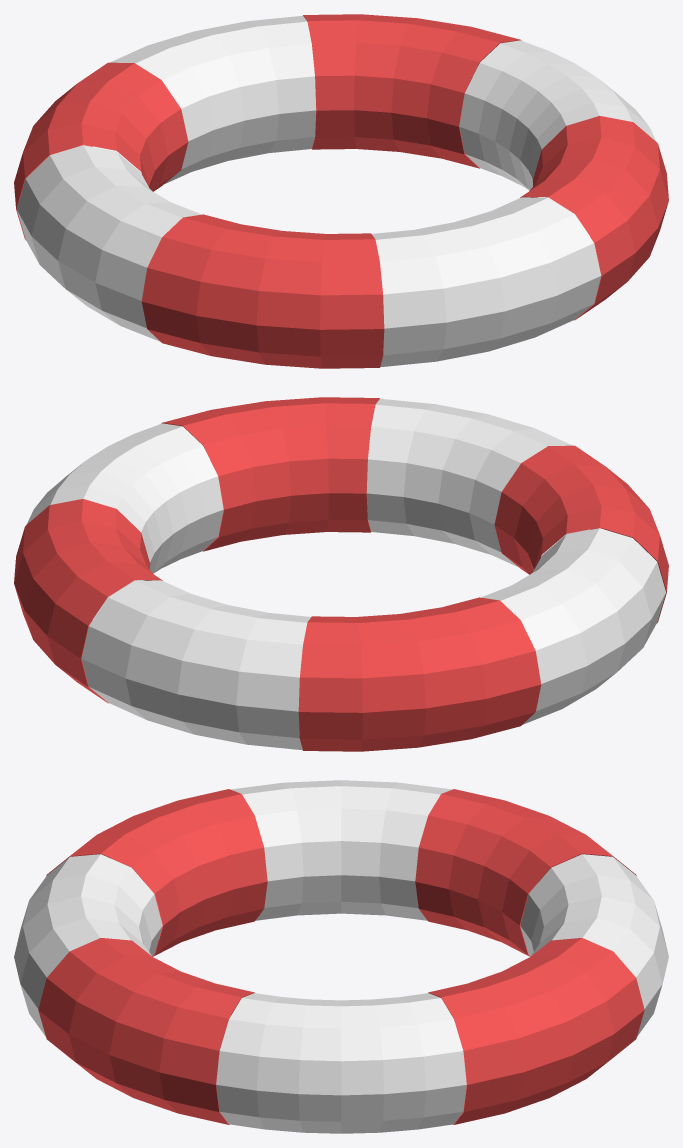
File: Life Preserver.fbx
3 views of the same model, one above another, from view 1: azimuth 30°, elevation 25°; view 2: azimuth 150°, elevation 25°; view 3: azimuth 270°, elevation 25° (orthographic).
Visible parts, largest first — view 1: R2, W3, R0, W1, W2, R3, R1, W0, W4; view 2: R1, W1, R3, W3, W2, R0, R2, W4, W0; view 3: R0, R3, W2, R1, R2, W0, W4, W1, W3.
Boxes of the visible parts, bbox=[...] form: R2: bbox=[141, 214, 384, 368]; W3: bbox=[372, 197, 601, 367]; R0: bbox=[303, 14, 521, 168]; W1: bbox=[93, 15, 316, 183]; W2: bbox=[17, 145, 201, 341]; R3: bbox=[520, 116, 668, 320]; R1: bbox=[14, 62, 188, 239]; W0: bbox=[459, 40, 595, 190]; W4: bbox=[509, 75, 656, 235]; R1: bbox=[298, 597, 541, 751]; W1: bbox=[81, 580, 310, 750]; R3: bbox=[161, 397, 379, 551]; W3: bbox=[366, 398, 589, 566]; W2: bbox=[481, 528, 665, 724]; R0: bbox=[14, 499, 162, 703]; R2: bbox=[494, 445, 668, 622]; W4: bbox=[87, 423, 223, 573]; W0: bbox=[26, 458, 173, 618]; R0: bbox=[428, 938, 644, 1124]; R3: bbox=[38, 938, 254, 1124]; W2: bbox=[230, 780, 452, 920]; R1: bbox=[415, 789, 636, 956]; R2: bbox=[46, 789, 267, 956]; W0: bbox=[341, 993, 466, 1133]; W4: bbox=[216, 993, 341, 1133]; W1: bbox=[520, 854, 668, 1036]; W3: bbox=[14, 854, 162, 1036].
Size of the model in its own units: 176 by 36.36 by 176.
